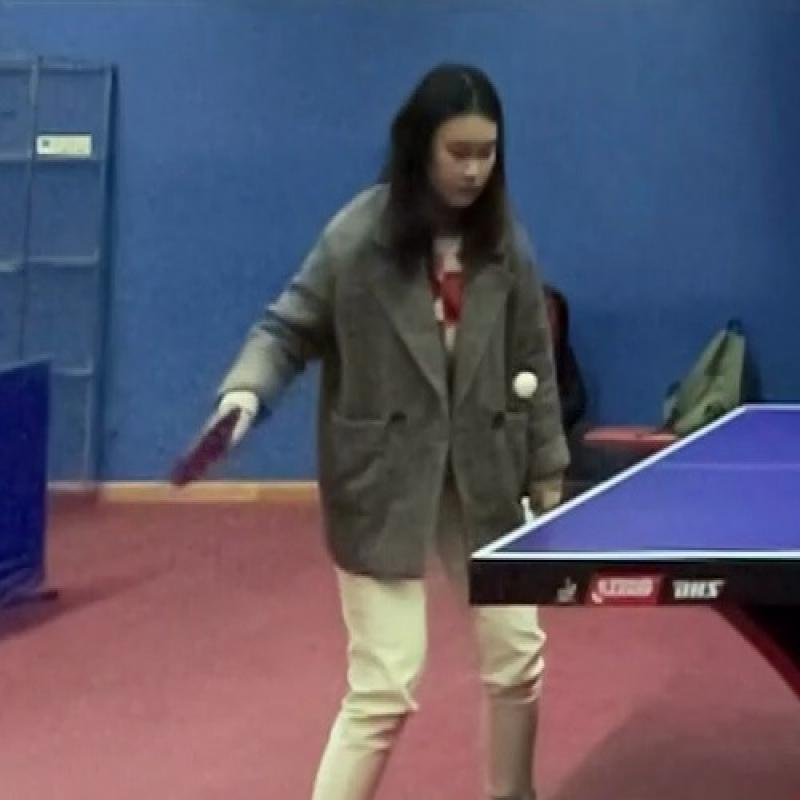bats: (163, 392, 258, 499)
